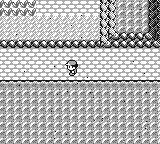captura: (1, 1, 35, 16)
main: (65, 61, 78, 75)
no-caminable: (1, 81, 159, 143), (99, 0, 159, 48)
salto: (0, 40, 99, 47)
